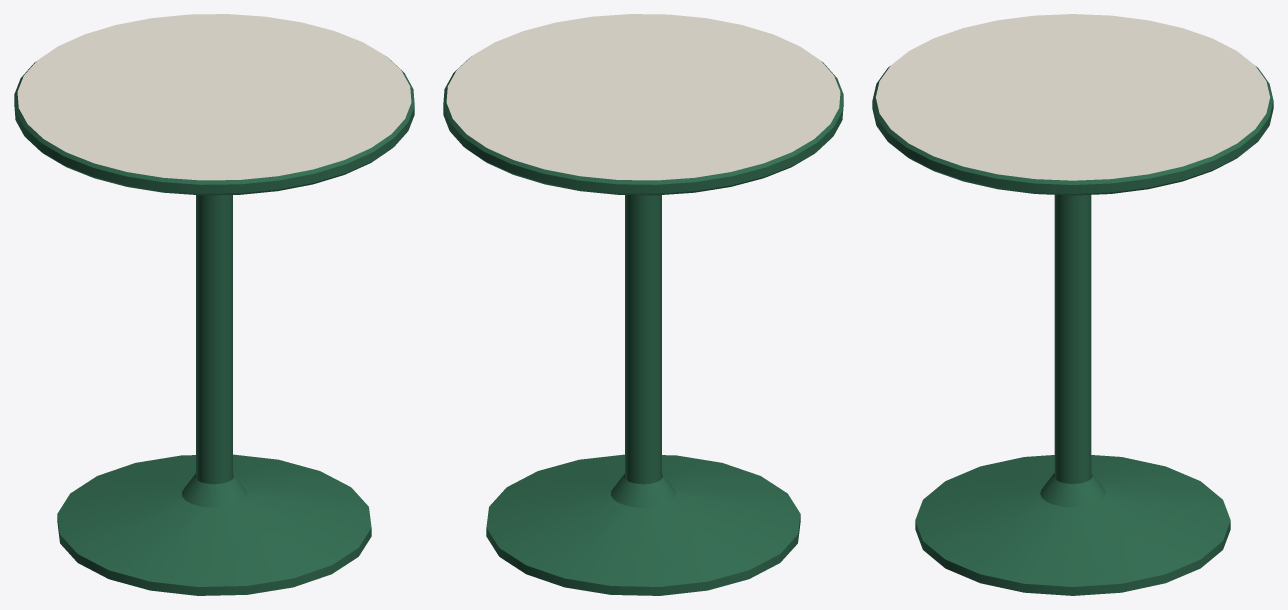
Rendered from CafeTable.fbx.
3 views of the same model, side by side, from view 1: azimuth 30°, elevation 25°; view 2: azimuth 150°, elevation 25°; view 3: azimuth 270°, elevation 25° (orthographic).
Visible parts, largest first — view 1: CafeTable_Mesh; view 2: CafeTable_Mesh; view 3: CafeTable_Mesh.
Boxes of the visible parts, x1,y1,x2,y2 form: CafeTable_Mesh: (14,14,414,595); CafeTable_Mesh: (443,14,843,595); CafeTable_Mesh: (872,14,1273,595).
Size of the model in its own units: 0.61 by 0.725 by 0.61.
